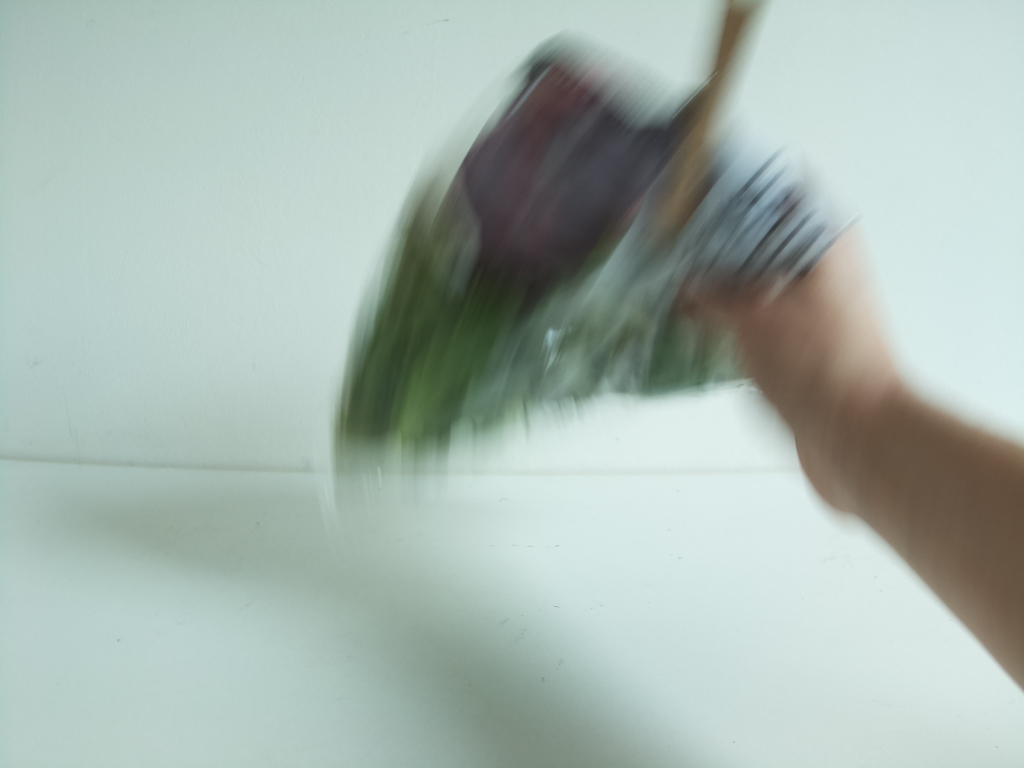salad: (331, 54, 838, 473)
